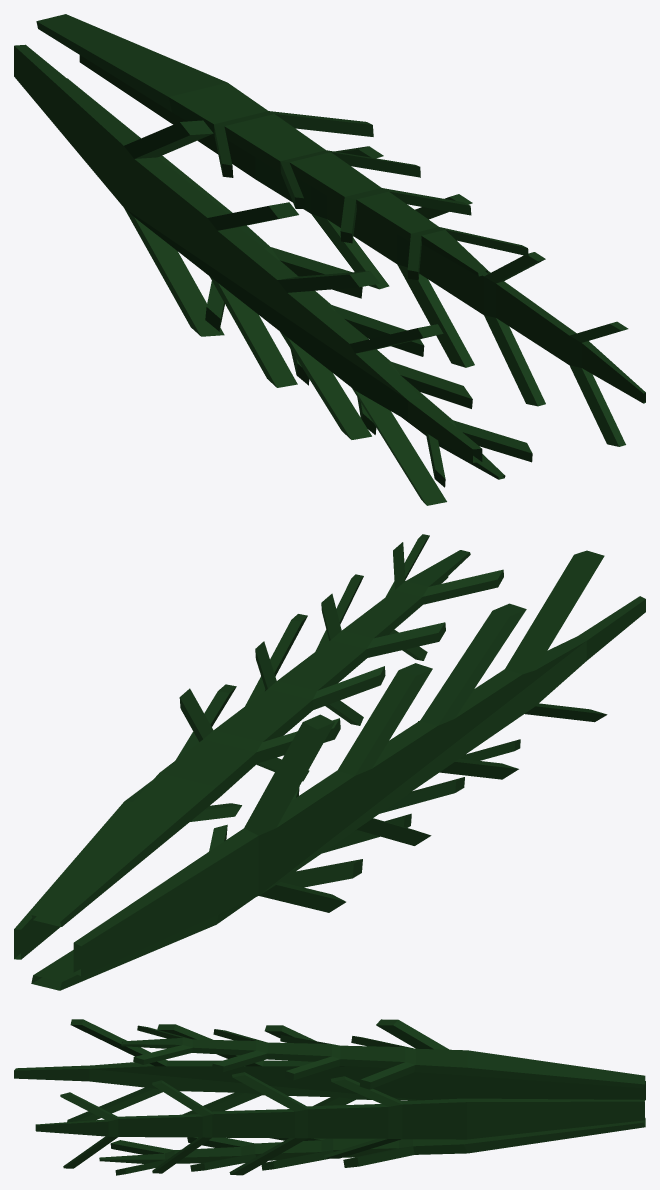
File: RosemarySprigs.obj
3 views of the same model, one above another, from view 1: azimuth 30°, elevation 25°; view 2: azimuth 150°, elevation 25°; view 3: azimuth 270°, elevation 25° (orthographic). The views are drawn at different scales.
Visible parts, largest first — view 1: leek.002; view 2: leek.002; view 3: leek.002.
Boxes of the visible parts, bbox=[...] form: leek.002: bbox=[14, 14, 645, 505]; leek.002: bbox=[14, 534, 645, 990]; leek.002: bbox=[14, 1019, 645, 1175].
Size of the model in its own units: 0.0327 by 0.032 by 0.1502.
